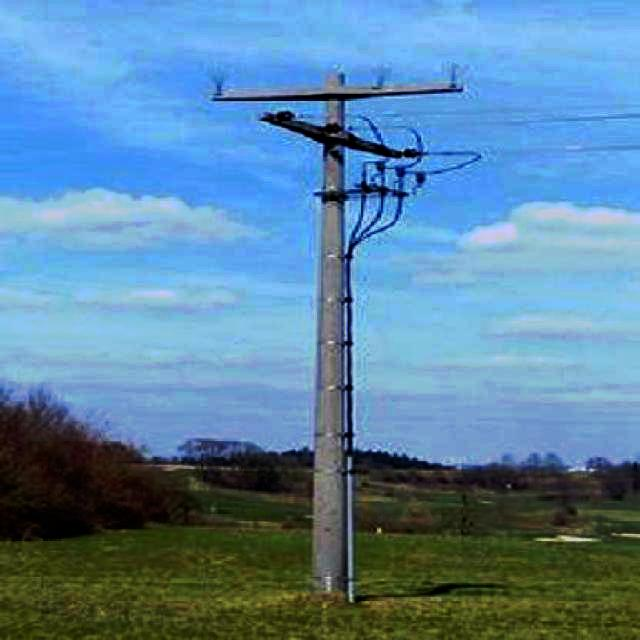poles: (207, 63, 476, 588)
wires: (475, 73, 639, 169)
